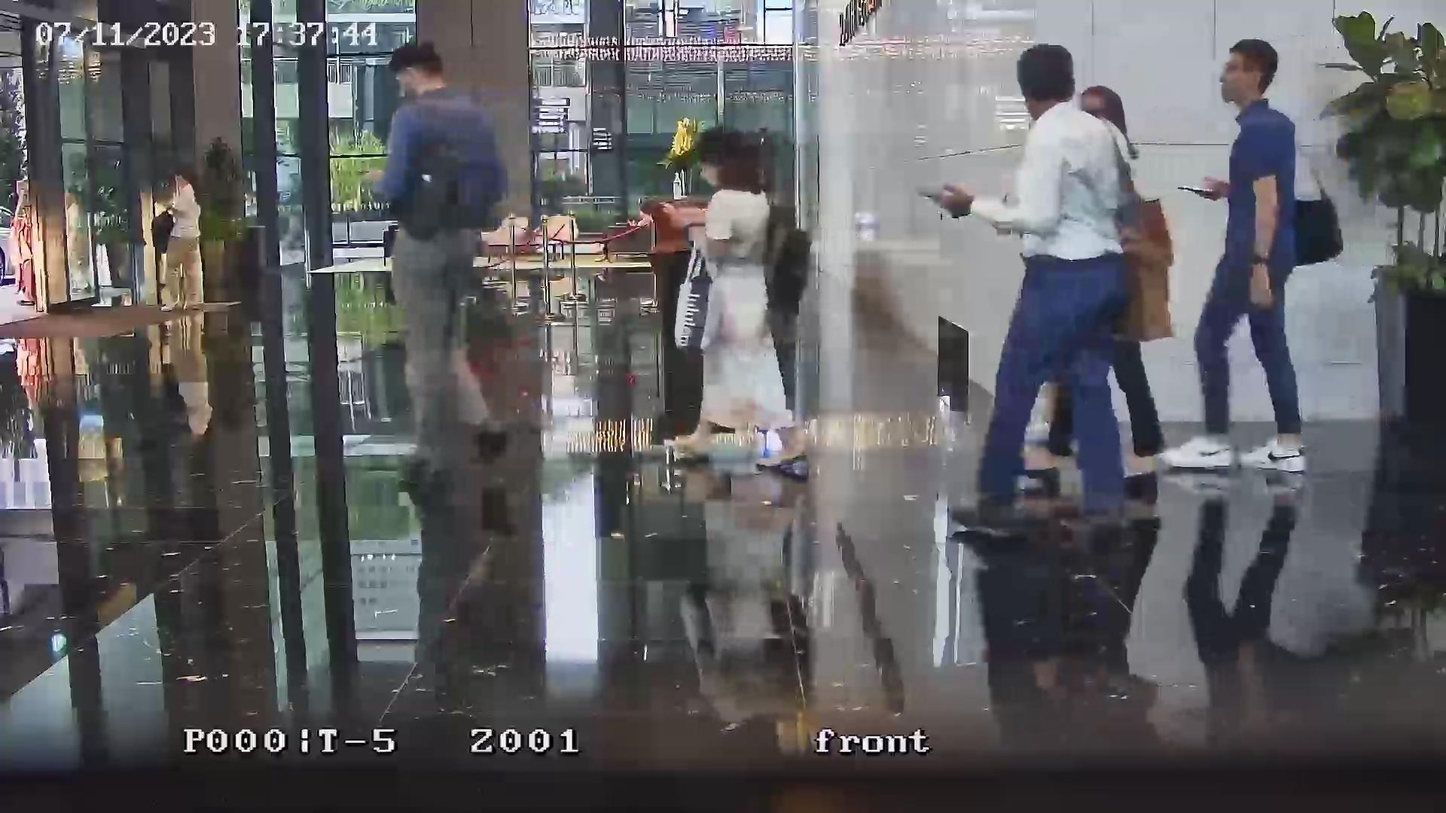person: (935, 44, 1157, 513), (1163, 38, 1309, 470), (374, 41, 510, 441), (670, 128, 812, 480), (1078, 86, 1174, 460), (153, 168, 203, 312), (594, 206, 650, 262), (11, 179, 35, 306)
